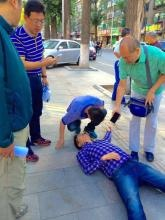falling: (71, 121, 164, 218)
